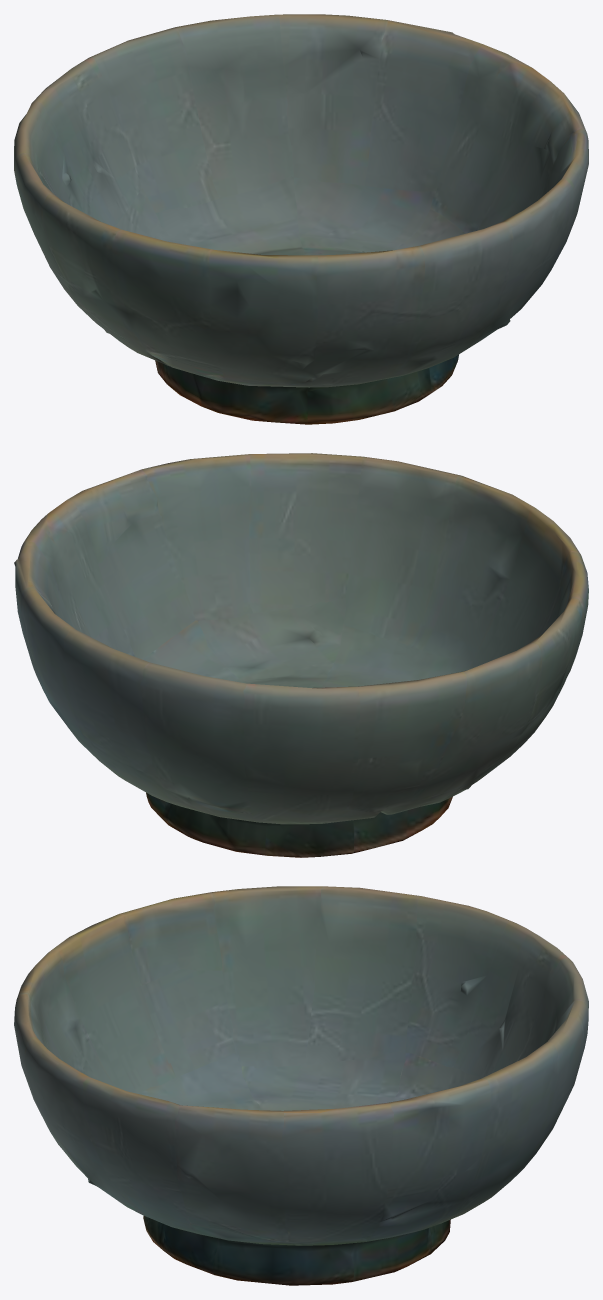
Rendered from bowl_jade.fbx.
3 views of the same model, one above another, from view 1: azimuth 30°, elevation 25°; view 2: azimuth 150°, elevation 25°; view 3: azimuth 270°, elevation 25° (orthographic).
Visible parts, largest first — view 1: bowl_jade; view 2: bowl_jade; view 3: bowl_jade.
Boxes of the visible parts, left/top/right/bottom form: bowl_jade: left=14, top=14, right=588, bottom=424; bowl_jade: left=14, top=453, right=588, bottom=857; bowl_jade: left=14, top=886, right=588, bottom=1285.
Bounding box in the file's own units: 99.74 × 44.46 × 100.
1 material, 1 textured.
